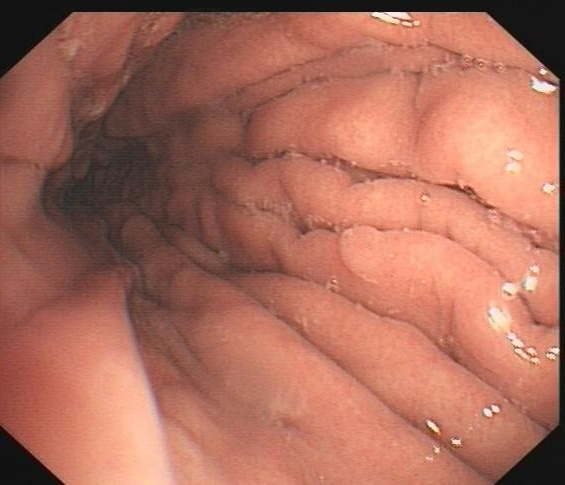Polyp: (330, 213, 395, 288)
